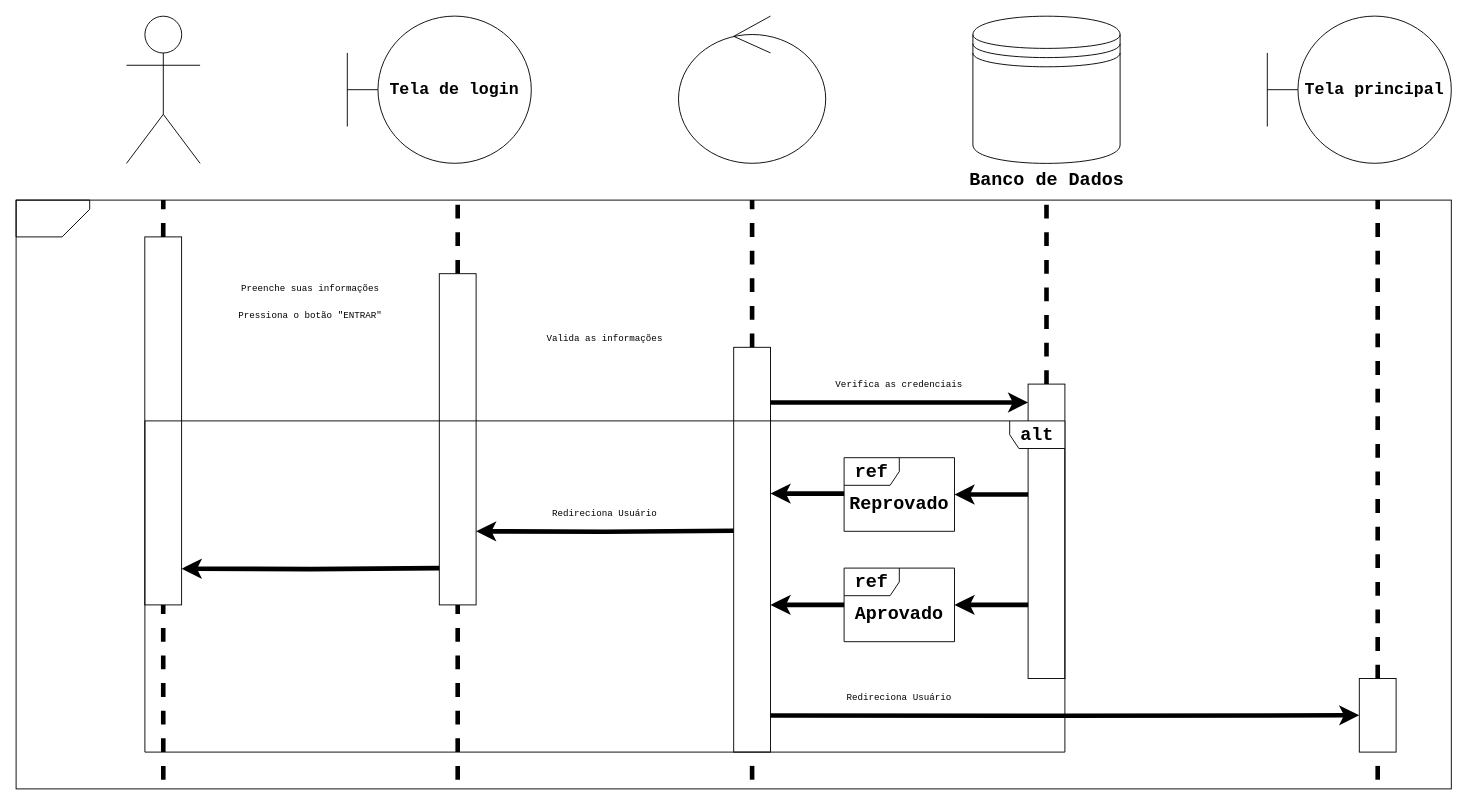
This 1467x805 diagram has some shape labels left out. Each missing label, with the centre of its shape:
"LOOP" goes at point 52,218.
"Sistema" goes at point 752,89.
"Usuário" goes at point 163,89.
